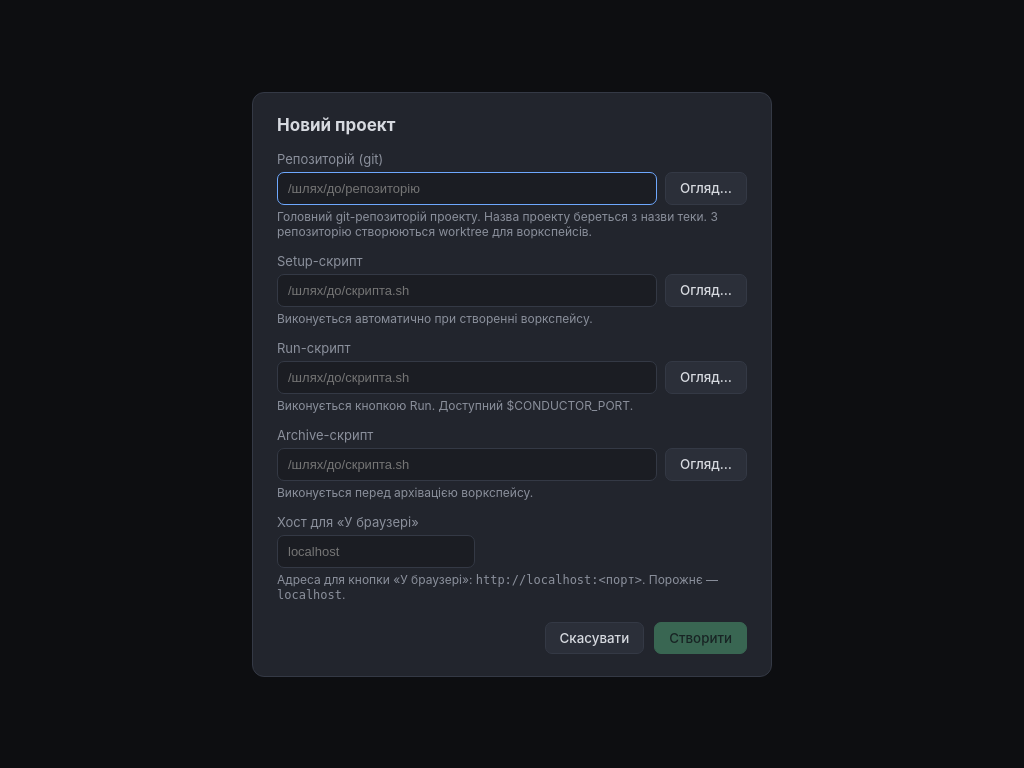
Scenario: NewProjectModal › flags a non-git folder and disables submit
Type "/home/me/plain" into the field with placeholder "/шлях/до/репозиторію" at (467,188), box [277,172,657,204]
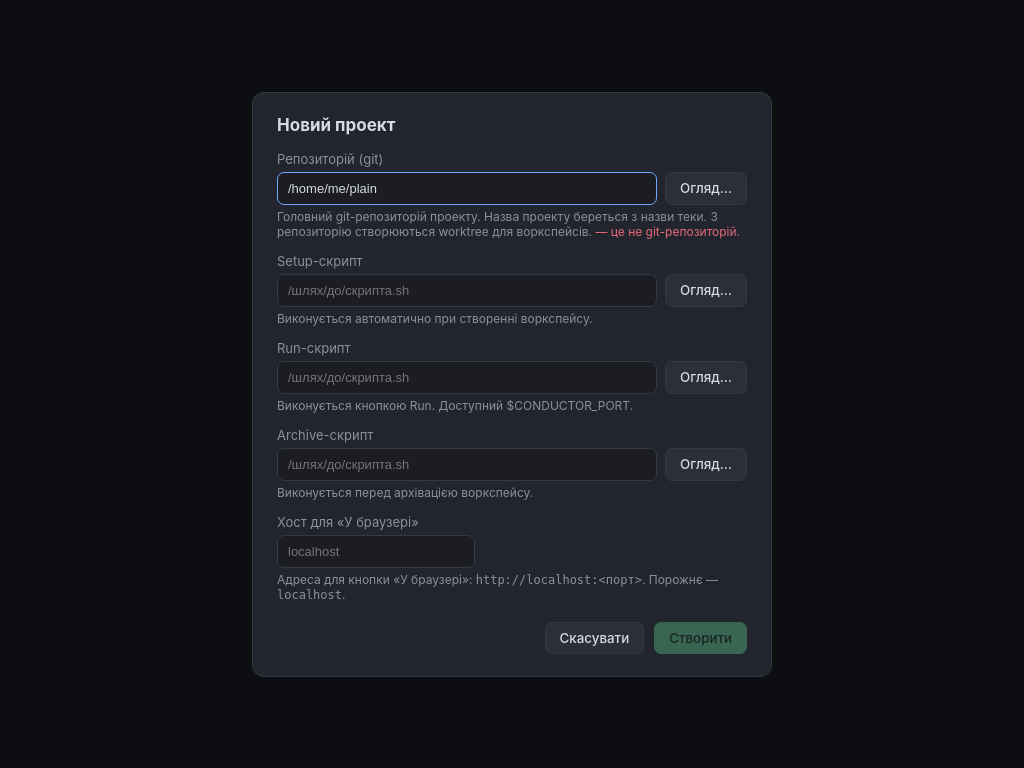
Check: the button "Створити" is disabled, box [654,622,747,654]
Check: the text "— це не git-репозиторій." is shown, box [592,224,740,238]
